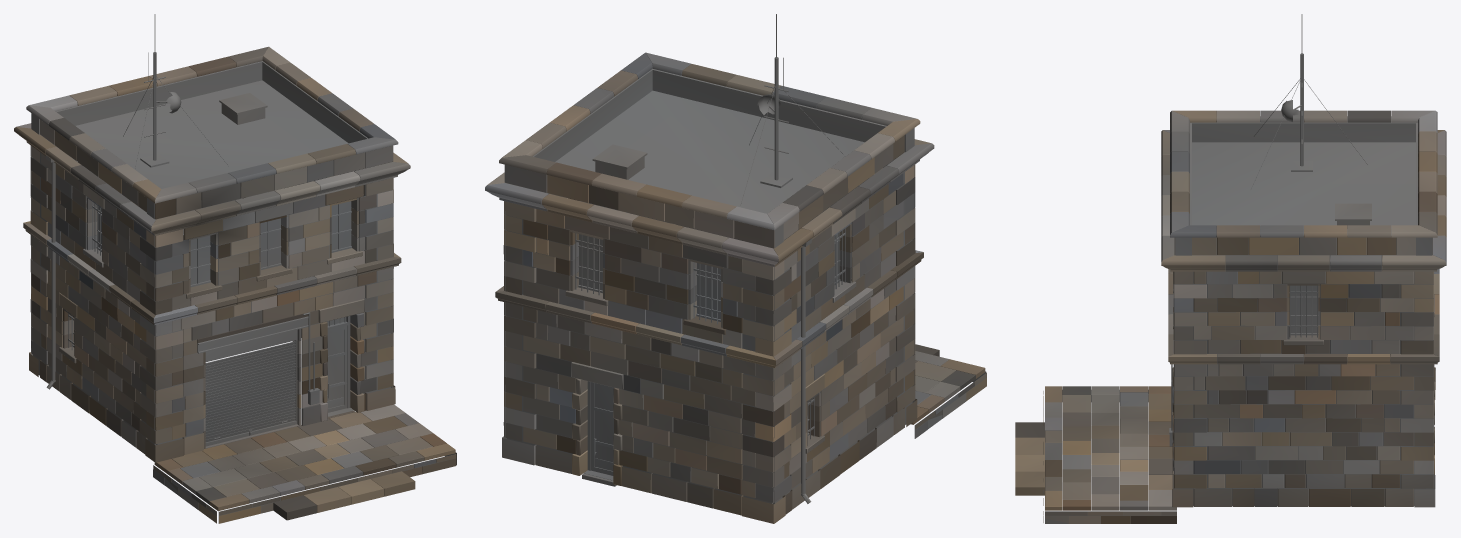
Rendered from RelayWorks_LOD1.glb.
3 renders of one model, left to right at view 1: azimuth 30°, elevation 25°; view 2: azimuth 150°, elevation 25°; view 3: azimuth 270°, elevation 25°, orthographic. The views are drawn at different scales.
Parts seen in each view (by area): view 1: RelayWorks_Masonry_LOD1, RelayWorks_Trim_LOD1, RelayWorks_Porch_LOD1, RelayWorks_Metal_LOD1, RelayWorks_Roof_LOD1, RelayWorks_Glass_LOD1; view 2: RelayWorks_Masonry_LOD1, RelayWorks_Trim_LOD1, RelayWorks_Roof_LOD1, RelayWorks_Metal_LOD1, RelayWorks_Porch_LOD1, RelayWorks_Glass_LOD1; view 3: RelayWorks_Masonry_LOD1, RelayWorks_Trim_LOD1, RelayWorks_Porch_LOD1, RelayWorks_Roof_LOD1, RelayWorks_Metal_LOD1, RelayWorks_Glass_LOD1.
Part boxes in pixels (x1=…): RelayWorks_Masonry_LOD1: x1=29, y1=61, x2=395, y2=462; RelayWorks_Trim_LOD1: x1=14, y1=46, x2=410, y2=448; RelayWorks_Porch_LOD1: x1=153, y1=404, x2=456, y2=523; RelayWorks_Metal_LOD1: x1=45, y1=14, x2=353, y2=446; RelayWorks_Roof_LOD1: x1=76, y1=80, x2=348, y2=188; RelayWorks_Glass_LOD1: x1=74, y1=168, x2=351, y2=342; RelayWorks_Masonry_LOD1: x1=502, y1=68, x2=917, y2=523; RelayWorks_Trim_LOD1: x1=485, y1=52, x2=934, y2=485; RelayWorks_Roof_LOD1: x1=555, y1=90, x2=864, y2=213; RelayWorks_Metal_LOD1: x1=575, y1=14, x2=868, y2=503; RelayWorks_Porch_LOD1: x1=582, y1=344, x2=986, y2=486; RelayWorks_Glass_LOD1: x1=579, y1=180, x2=866, y2=430; RelayWorks_Masonry_LOD1: x1=1172, y1=116, x2=1435, y2=507; RelayWorks_Trim_LOD1: x1=1161, y1=110, x2=1446, y2=474; RelayWorks_Porch_LOD1: x1=1015, y1=386, x2=1176, y2=523; RelayWorks_Roof_LOD1: x1=1192, y1=142, x2=1415, y2=228; RelayWorks_Metal_LOD1: x1=1169, y1=14, x2=1367, y2=446; RelayWorks_Glass_LOD1: x1=1290, y1=285, x2=1318, y2=332.
Size of the model in its own units: 8.46 by 12.6 by 11.73.
